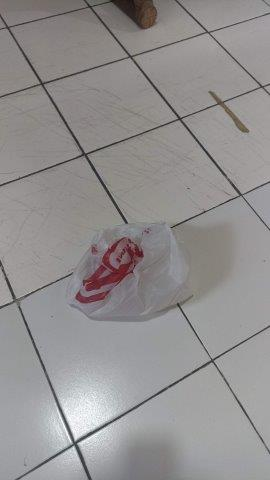plastik: (65, 222, 193, 324)
